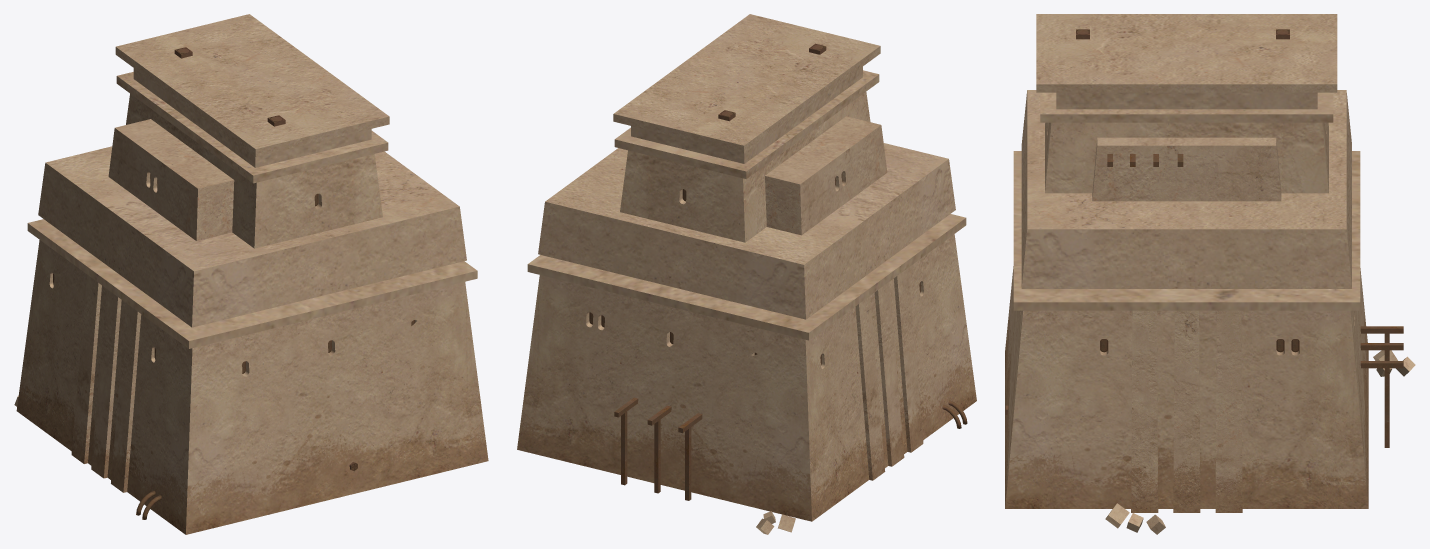
Rendered from Edificio 6.fbx.
3 renders of one model, left to right at view 1: azimuth 30°, elevation 25°; view 2: azimuth 150°, elevation 25°; view 3: azimuth 270°, elevation 25°, orthographic. The views are drawn at different scales.
Visible parts, largest first — view 1: building25; view 2: building25; view 3: building25.
Boxes of the visible parts, bbox=[...] form: building25: bbox=[14, 14, 488, 534]; building25: bbox=[517, 14, 976, 534]; building25: bbox=[1005, 14, 1415, 534].
Size of the model in its own units: 1883 by 1871 by 1752.
